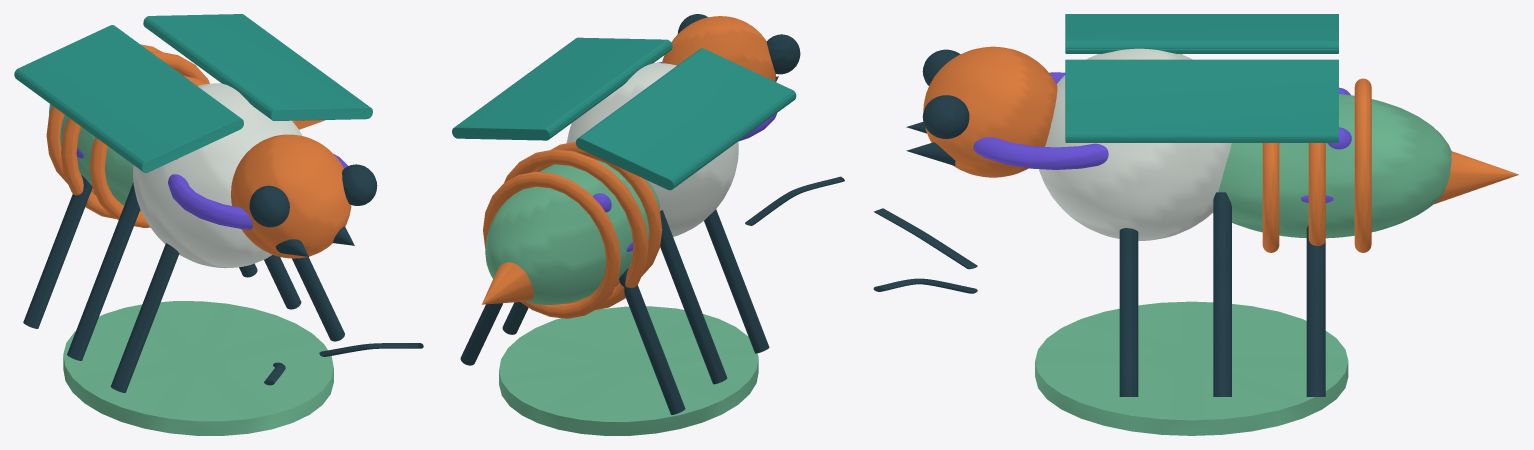
Rendered from 0007_昆虫图鉴_天牛.glb.
The picture shows the model from 3 angles, left to right: view 1: azimuth 30°, elevation 25°; view 2: azimuth 150°, elevation 25°; view 3: azimuth 270°, elevation 25°; orthographic projection. The views are drawn at different scales.
Parts seen in each view (by area): view 1: card_0007; view 2: card_0007; view 3: card_0007.
Part boxes in pixels (x1,y1,x2,y2): card_0007: [14, 14, 423, 435]; card_0007: [452, 14, 844, 435]; card_0007: [873, 14, 1518, 435].
Bounding box in the file's own units: 0.7945 × 1 × 1.8.
